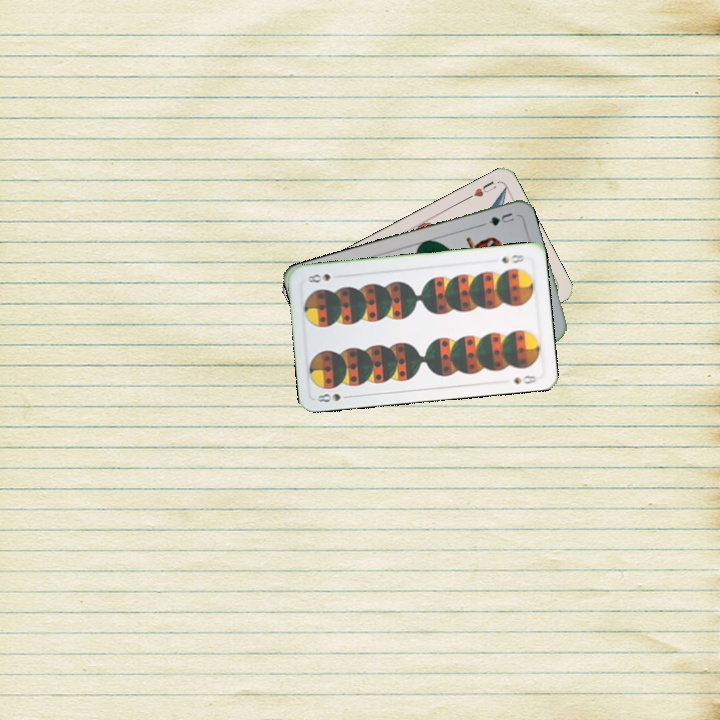GU: (485, 208, 517, 228)
HU: (463, 176, 499, 202)
S8: (313, 389, 354, 405), (498, 250, 527, 266)
